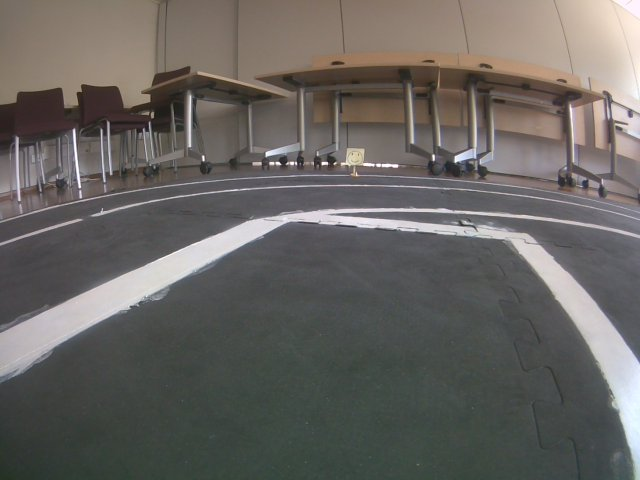Smiley: (344, 147, 365, 168)
